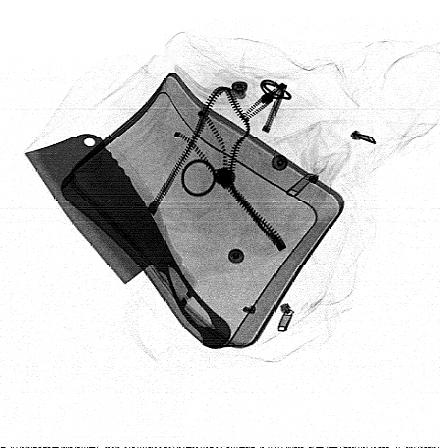Knife: (23, 133, 231, 349)
